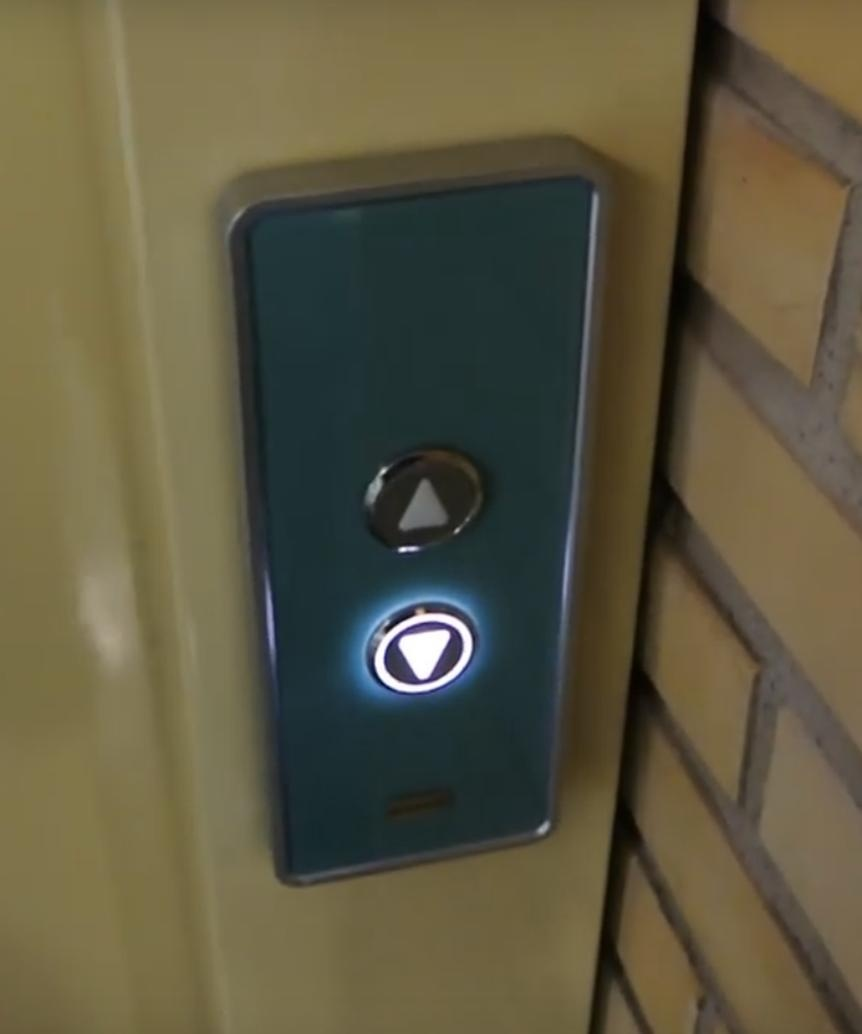down: (362, 593, 484, 701)
up: (360, 442, 493, 558)
